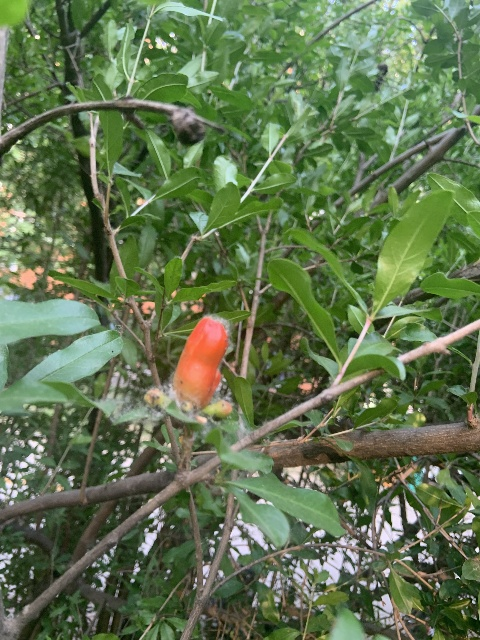bud: (172, 316, 228, 411), (205, 400, 231, 418)
